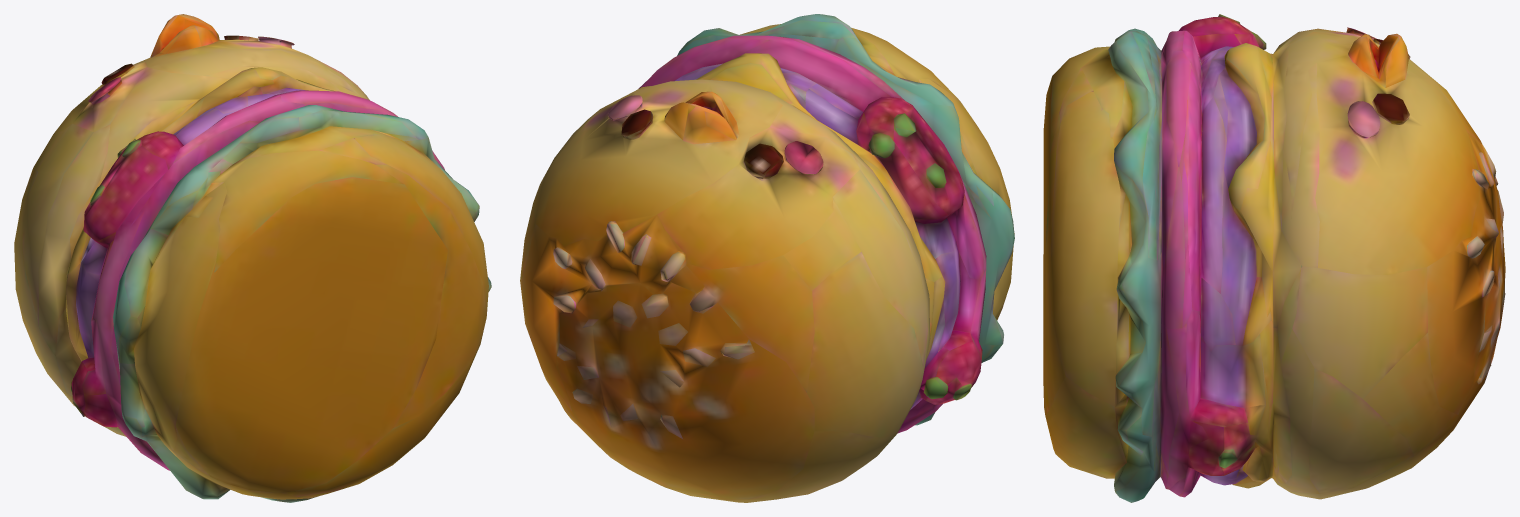
3 views of the same model, side by side, from view 1: azimuth 30°, elevation 25°; view 2: azimuth 150°, elevation 25°; view 3: azimuth 270°, elevation 25° (orthographic). The views are drawn at different scales.
Visible parts, largest first — view 1: material; view 2: material; view 3: material.
Boxes of the visible parts, x1,y1,x2,y2 form: material: (14,14,491,502); material: (520,14,1014,502); material: (1043,14,1505,502).
Size of the model in its own units: 0.9873 by 1 by 0.9503.
1 material, 1 textured.
